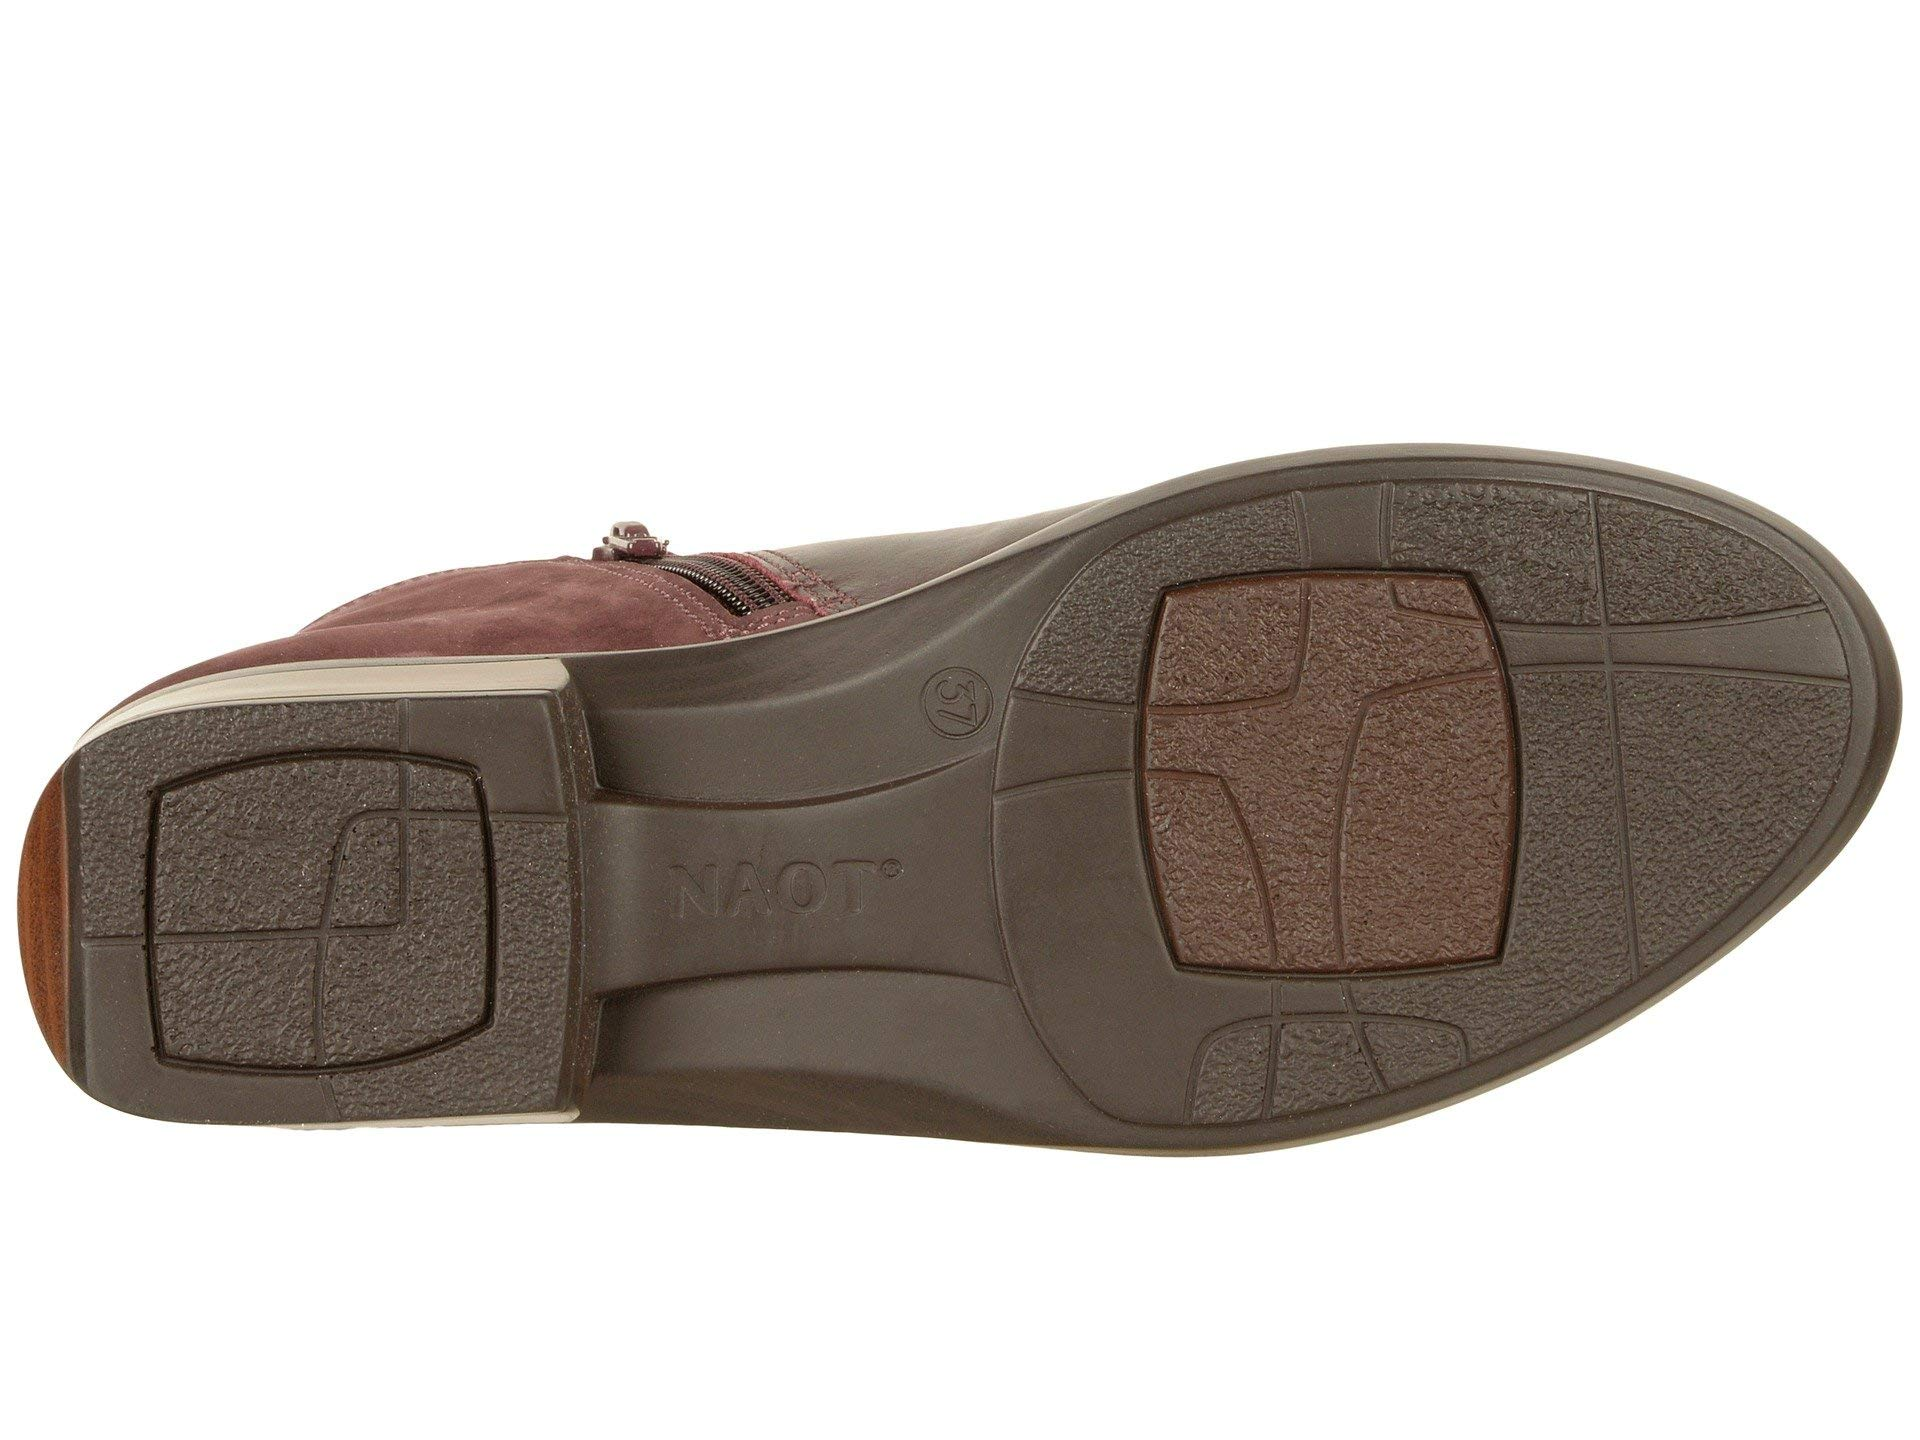circle: (627, 843, 946, 938), (898, 652, 996, 749)
line: (82, 749, 543, 1088), (1583, 587, 1860, 703)
quad: (82, 749, 543, 1088), (1144, 578, 1516, 979), (1583, 587, 1860, 703)
text: (627, 843, 946, 938), (898, 652, 996, 749)
